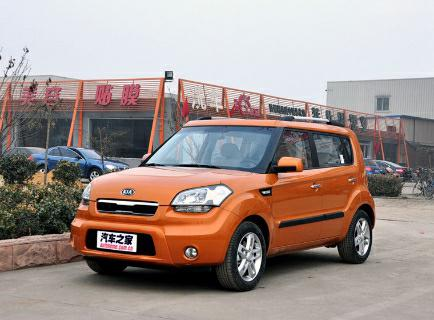起亚-秀尔: (70, 113, 381, 295)
